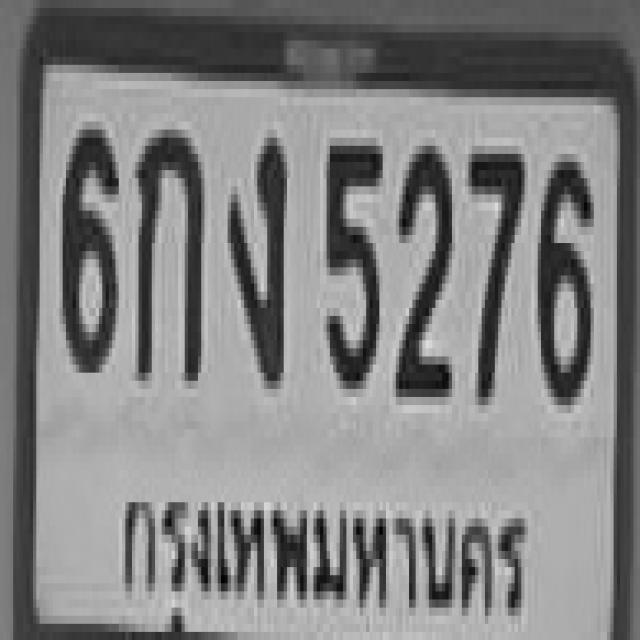10GorGai: (132, 121, 201, 372)
16NgorNgu: (224, 126, 284, 377)
2: (392, 138, 448, 389)
5: (324, 134, 379, 376)
6: (534, 146, 590, 397), (60, 117, 116, 360)
7: (465, 138, 521, 397)
Bangkok: (112, 462, 528, 640)
